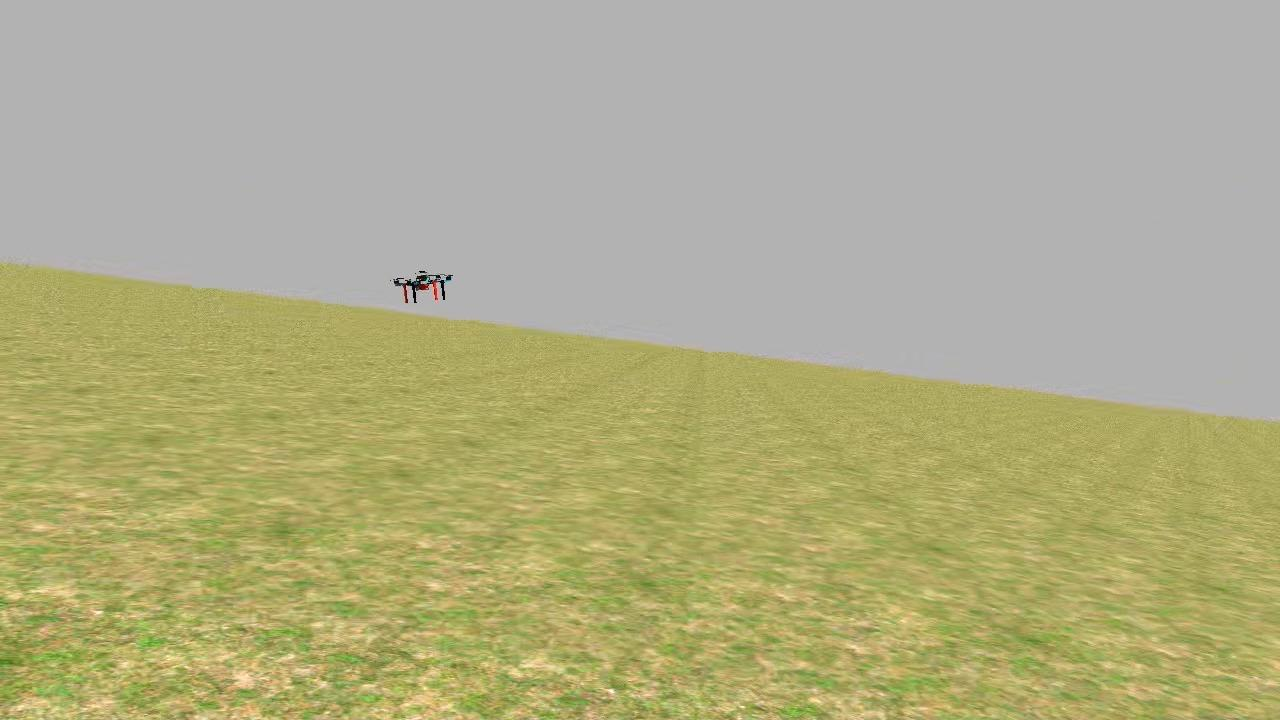UAV: (387, 256, 457, 310)
